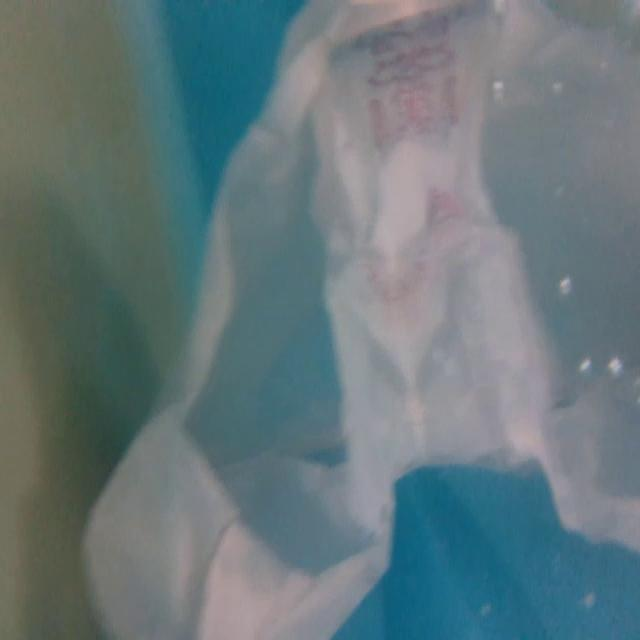plastic bags: (78, 4, 639, 640)
